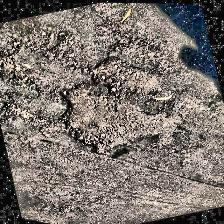pothole: (50, 44, 182, 170), (0, 19, 32, 83)
